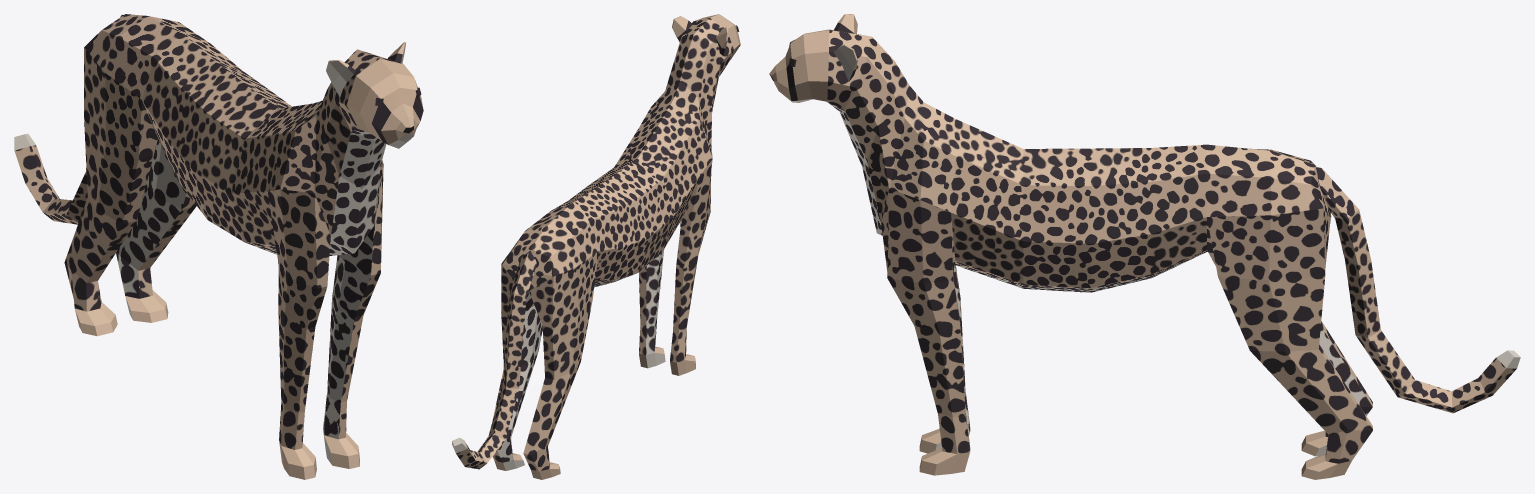
The model's file is d4674fda-c69f-4e18-bbc5-59cb68ba163b.glb.
3 renders of one model, left to right at view 1: azimuth 30°, elevation 25°; view 2: azimuth 150°, elevation 25°; view 3: azimuth 270°, elevation 25°, orthographic. The views are drawn at different scales.
Parts seen in each view (by area): view 1: Geo_Cheetah; view 2: Geo_Cheetah; view 3: Geo_Cheetah.
Boxes of the visible parts, left/top/right/bottom form: Geo_Cheetah: left=14, top=14, right=423, bottom=479; Geo_Cheetah: left=452, top=14, right=740, bottom=479; Geo_Cheetah: left=769, top=14, right=1520, bottom=479.
Bounding box in the file's own units: 28.16 × 117 × 186.
Materials: 1 (1 with a texture image).
